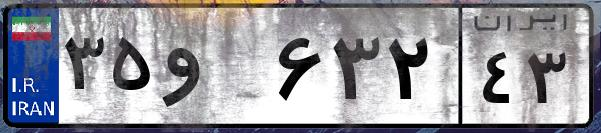2: (385, 28, 445, 110)
3: (330, 28, 385, 110), (57, 26, 110, 100), (525, 38, 570, 115)
4: (475, 38, 525, 113)
5: (110, 28, 158, 98)
6: (270, 28, 330, 110)
و: (158, 20, 270, 120)
